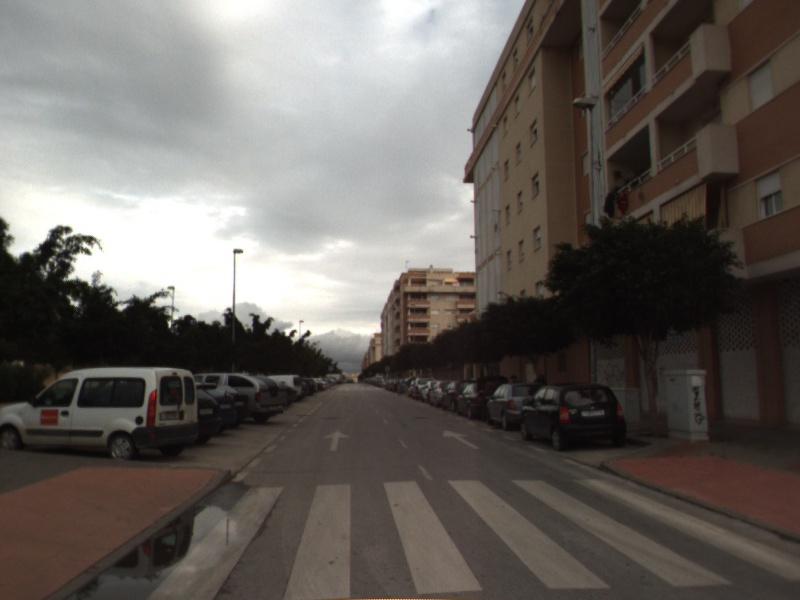STRAIGHT: (441, 428, 482, 451), (321, 428, 352, 453)
